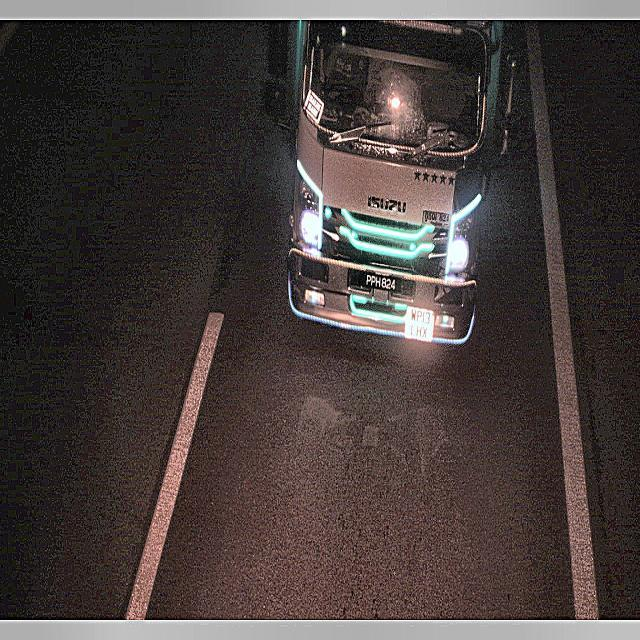car: (345, 263, 420, 304)
